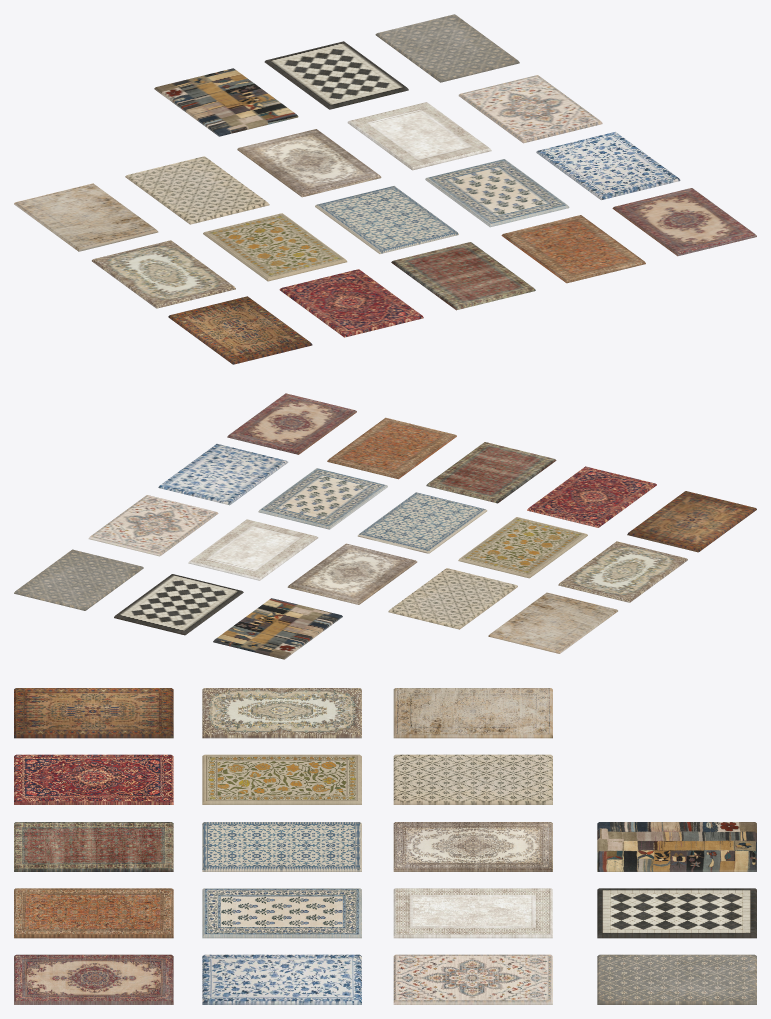
File: vintage_rugs_pack.glb
3 views of the same model, one above another, from view 1: azimuth 30°, elevation 25°; view 2: azimuth 150°, elevation 25°; view 3: azimuth 270°, elevation 25° (orthographic). The views are drawn at different scales.
Visible parts, largest first — view 1: Vintage Rugs_001, Vintage Rugs_007, Vintage Rugs_011, Vintage Rugs_005, Vintage Rugs_015, Vintage Rugs_004, Vintage Rugs_014, Vintage Rugs_017, Vintage Rugs_018, Vintage Rugs_003, Vintage Rugs_006, Vintage Rugs_008 (+6 smaller); view 2: Vintage Rugs_009, Vintage Rugs_010, Vintage Rugs_002, Vintage Rugs_003, Vintage Rugs_011, Vintage Rugs_013, Vintage Rugs_016, Vintage Rugs_001, Vintage Rugs_004, Vintage Rugs_005, Vintage Rugs_007, Vintage Rugs_008 (+6 smaller); view 3: Vintage Rugs_002, Vintage Rugs_003, Vintage Rugs_007, Vintage Rugs_008, Vintage Rugs_016, Vintage Rugs_012, Vintage Rugs_013, Vintage Rugs_001, Vintage Rugs_005, Vintage Rugs_011, Vintage Rugs_015, Vintage Rugs_018 (+6 smaller).
Part boxes in pixels (left/top/right/bottom): Vintage Rugs_001: left=279, top=269, right=423, bottom=337; Vintage Rugs_007: left=91, top=240, right=235, bottom=308; Vintage Rugs_011: left=125, top=156, right=269, bottom=224; Vintage Rugs_005: left=612, top=188, right=756, bottom=256; Vintage Rugs_015: left=458, top=75, right=602, bottom=143; Vintage Rugs_004: left=391, top=242, right=535, bottom=310; Vintage Rugs_014: left=237, top=129, right=381, bottom=197; Vintage Rugs_017: left=154, top=68, right=298, bottom=136; Vintage Rugs_018: left=375, top=14, right=519, bottom=82; Vintage Rugs_003: left=501, top=215, right=645, bottom=283; Vintage Rugs_006: left=203, top=213, right=347, bottom=281; Vintage Rugs_008: left=425, top=159, right=569, bottom=227; Vintage Rugs_009: left=357, top=492, right=487, bottom=553; Vintage Rugs_010: left=158, top=444, right=288, bottom=505; Vintage Rugs_002: left=627, top=491, right=756, bottom=552; Vintage Rugs_003: left=327, top=417, right=456, bottom=479; Vintage Rugs_011: left=388, top=568, right=517, bottom=629; Vintage Rugs_013: left=188, top=519, right=318, bottom=580; Vintage Rugs_016: left=114, top=574, right=243, bottom=635; Vintage Rugs_001: left=527, top=466, right=656, bottom=527; Vintage Rugs_004: left=426, top=442, right=556, bottom=503; Vintage Rugs_005: left=227, top=393, right=356, bottom=454; Vintage Rugs_007: left=558, top=541, right=687, bottom=602; Vintage Rugs_008: left=258, top=468, right=387, bottom=529; Vintage Rugs_002: left=14, top=688, right=173, bottom=738; Vintage Rugs_003: left=14, top=888, right=173, bottom=938; Vintage Rugs_007: left=202, top=688, right=361, bottom=738; Vintage Rugs_008: left=202, top=888, right=361, bottom=938; Vintage Rugs_016: left=597, top=888, right=756, bottom=938; Vintage Rugs_012: left=393, top=688, right=552, bottom=738; Vintage Rugs_013: left=393, top=888, right=552, bottom=938; Vintage Rugs_001: left=14, top=754, right=173, bottom=804; Vintage Rugs_005: left=14, top=954, right=173, bottom=1004; Vintage Rugs_011: left=393, top=754, right=552, bottom=804; Vintage Rugs_015: left=393, top=954, right=552, bottom=1004; Vintage Rugs_018: left=597, top=954, right=756, bottom=1004.
Bounding box in the file's own units: 13.19 × 0.0597 × 13.17.
Materials: 1 (1 with a texture image).
